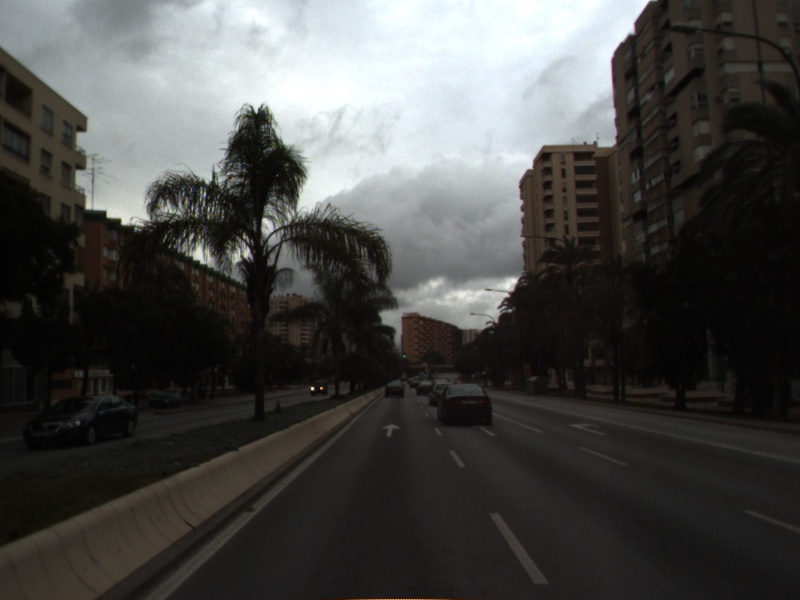RIGHT: (566, 419, 608, 437)
STRAIGHT: (379, 421, 403, 439)
